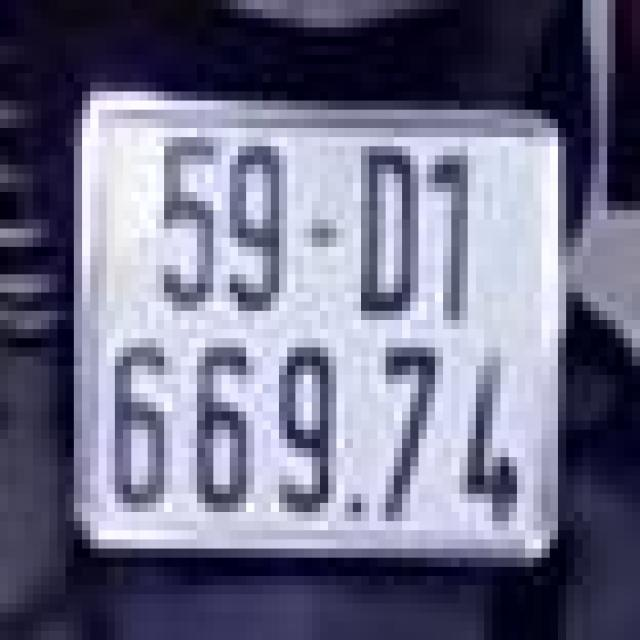1: (419, 137, 484, 320)
4: (447, 334, 529, 535)
5: (152, 114, 226, 316)
6: (78, 320, 176, 512), (185, 306, 266, 535)
7: (361, 338, 451, 521)
9: (218, 119, 292, 320), (275, 324, 349, 516)
D: (344, 119, 435, 320)
